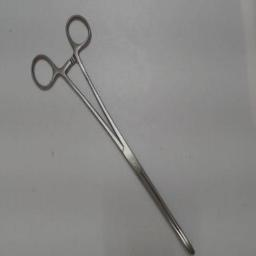Sponge Forceps: (26, 10, 198, 256)
